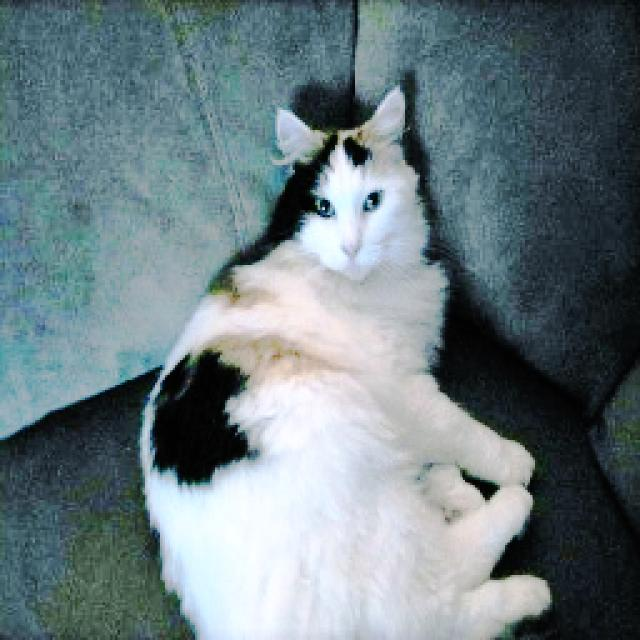cat: (120, 62, 559, 640)
